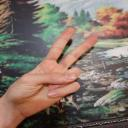PeaceSign: (7, 26, 99, 118)
